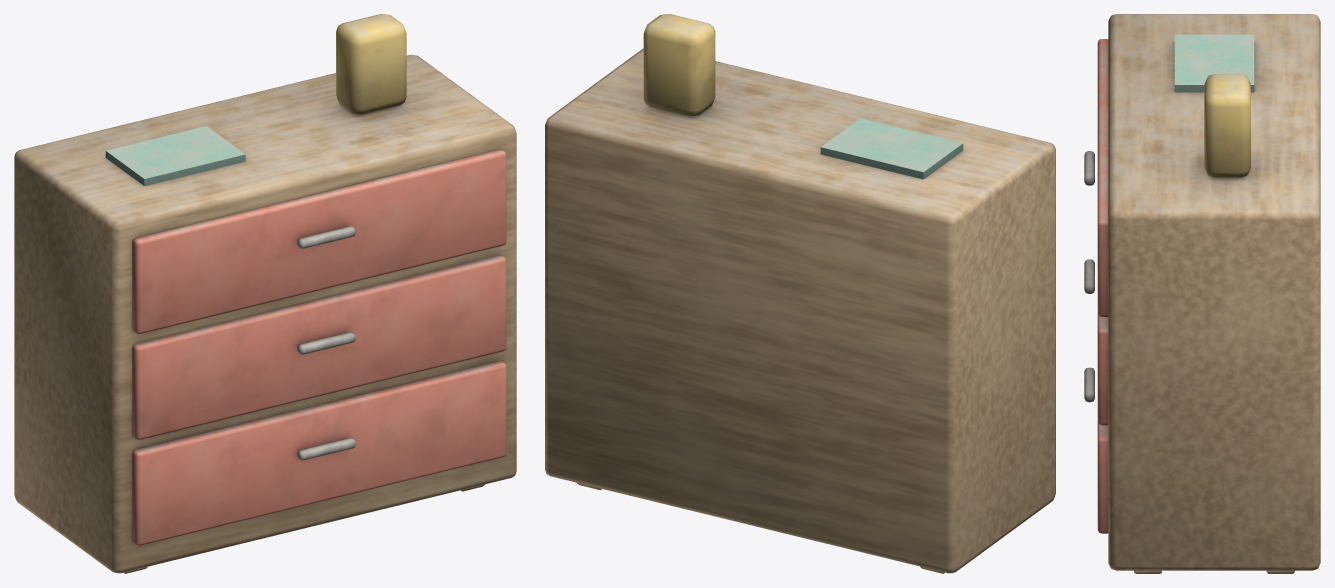
The model's file is dresser.fbx.
3 renders of one model, left to right at view 1: azimuth 30°, elevation 25°; view 2: azimuth 150°, elevation 25°; view 3: azimuth 270°, elevation 25°, orthographic. The views are drawn at different scales.
Parts seen in each view (by area): view 1: Body, Drawer2, Drawer3, Drawer1; view 2: Body; view 3: Body, Drawer3, Drawer2, Drawer1.
Part boxes in pixels (box(x1,y1,x2,y2)): Body: box(14, 14, 516, 573); Drawer2: box(132, 255, 506, 439); Drawer3: box(132, 149, 506, 333); Drawer1: box(132, 361, 506, 545); Body: box(545, 14, 1055, 573); Body: box(1108, 14, 1320, 573); Drawer3: box(1084, 39, 1108, 316); Drawer2: box(1084, 259, 1108, 425); Drawer1: box(1084, 367, 1108, 533).
Size of the model in its own units: 3.6 by 3.8 by 1.78.
1 material, 1 textured.
